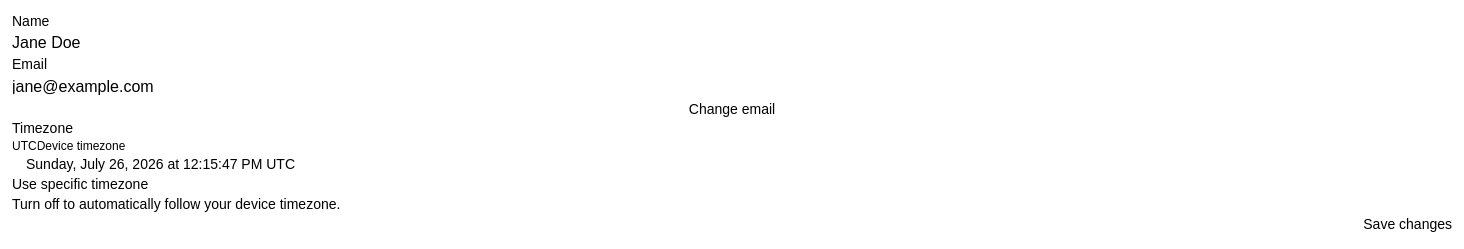
UserProfilePanel › switches email field into editable mode with save action
The width and height of the screenshot is (1464, 249).
Check: the field labelled "Email" holds "jane@example.com", box [12, 74, 1452, 98]
Click the button "Change email" at [732, 108], box [12, 98, 1452, 118]
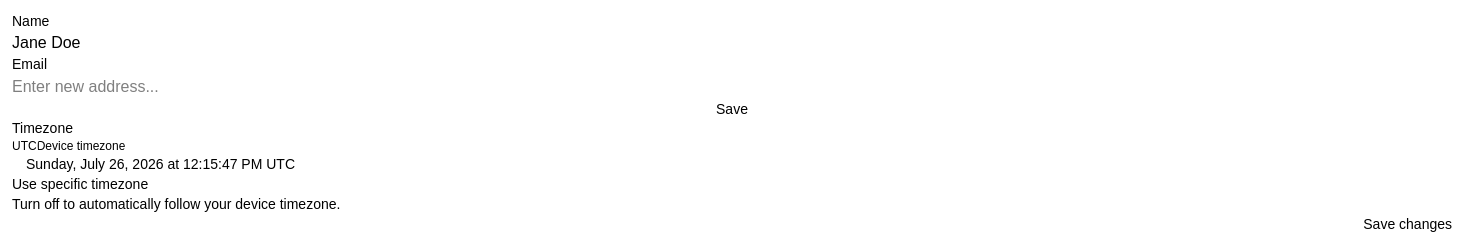
Check: the field labelled "Email" is empty, box [12, 74, 1452, 98]
Check: the button "Save" is shown, box [12, 98, 1452, 118]
